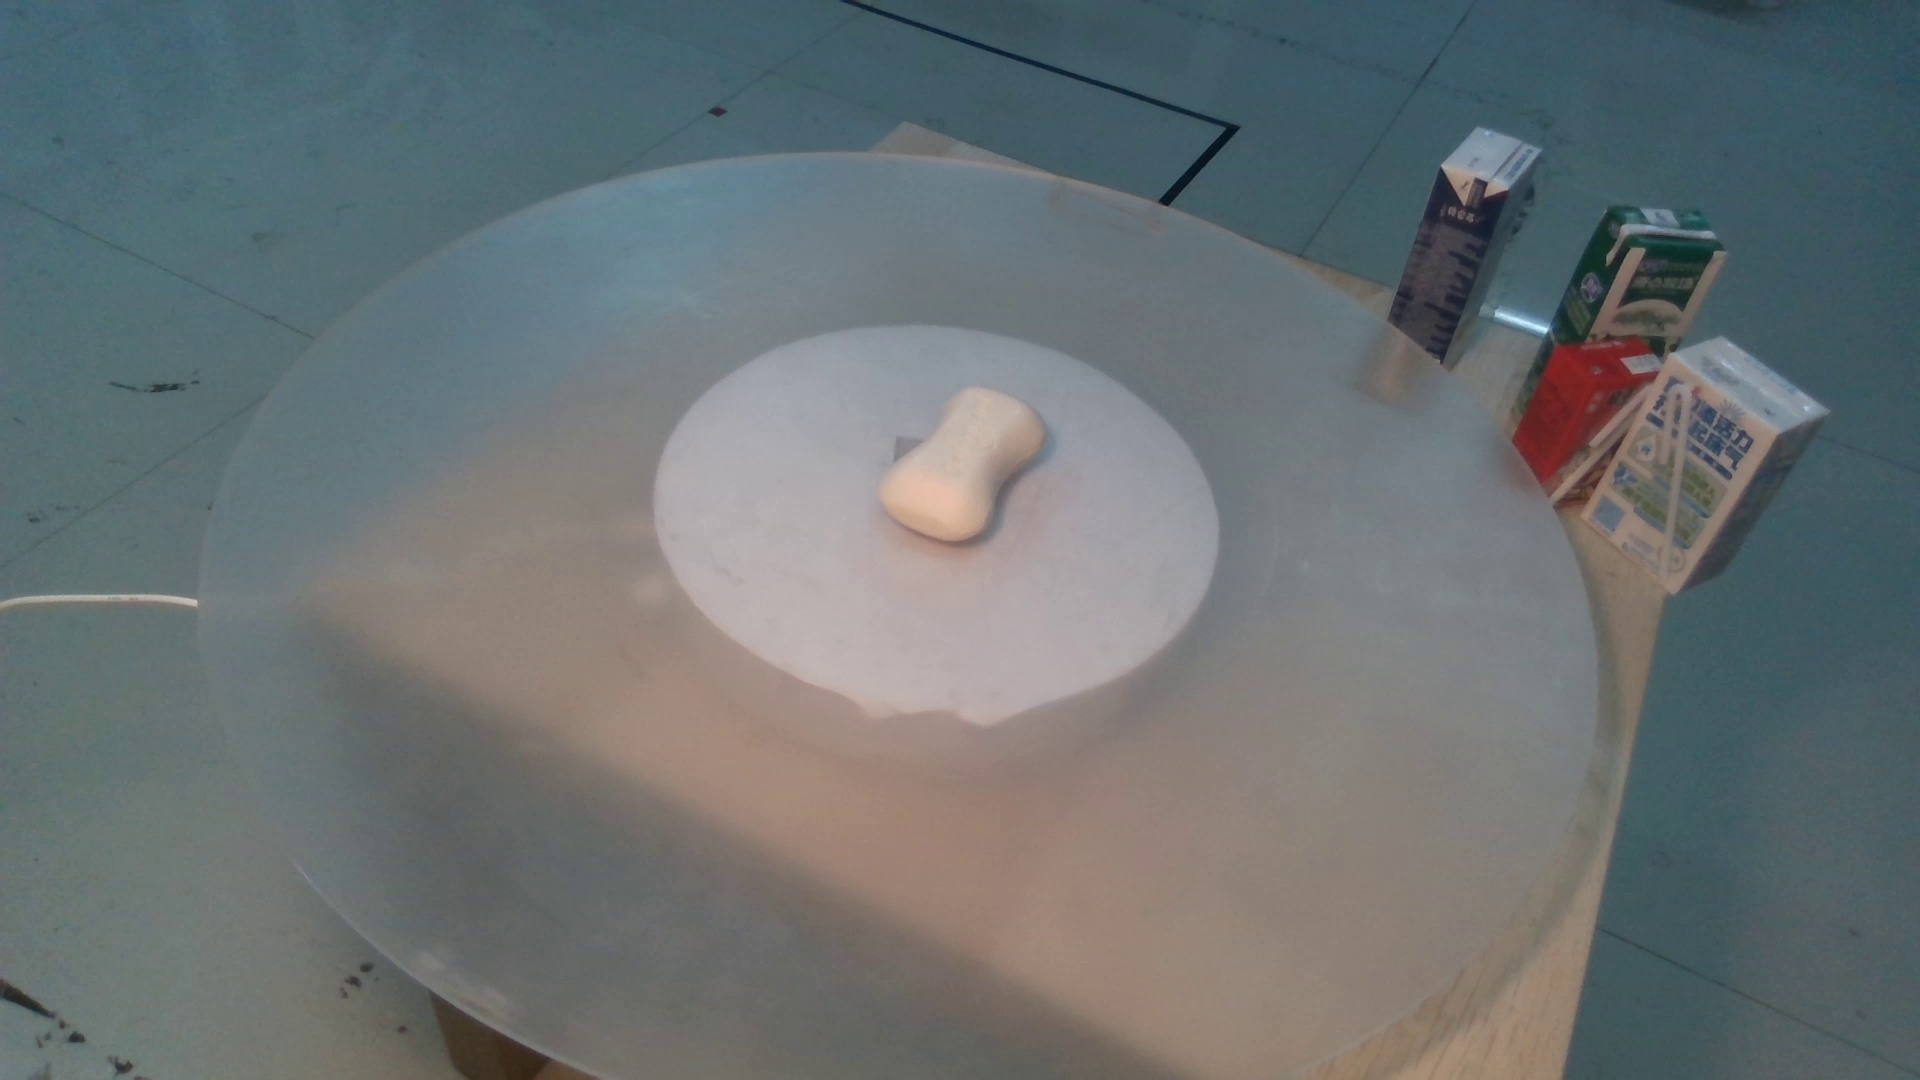CA003_1: (836, 373, 1109, 585)
